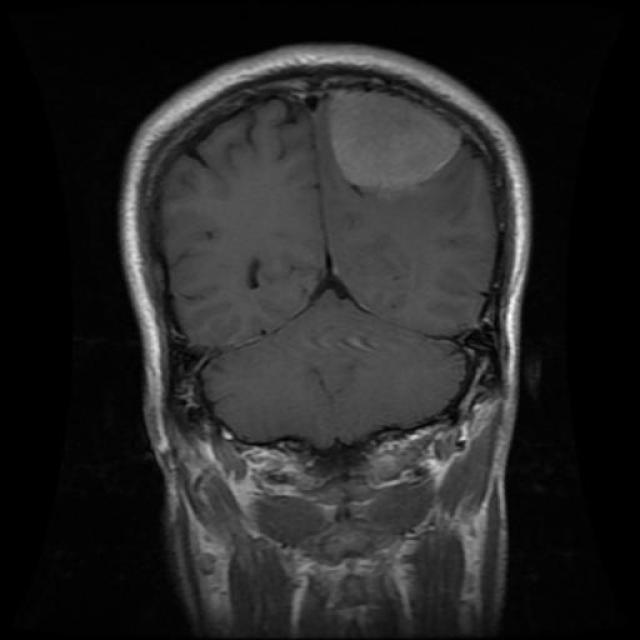meningioma: (329, 91, 464, 188)
